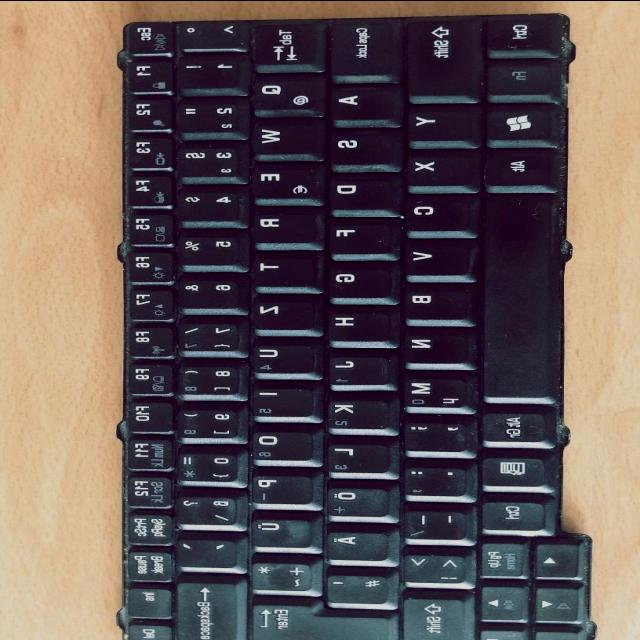0: (171, 447, 243, 483)
1: (172, 52, 244, 90)
2: (173, 96, 247, 134)
3: (171, 139, 247, 178)
4: (170, 184, 244, 220)
5: (171, 229, 245, 267)
6: (172, 274, 242, 309)
7: (174, 317, 244, 352)
8: (175, 360, 243, 396)
9: (173, 404, 243, 439)
a: (325, 82, 399, 120)
accent: (170, 535, 238, 566)
ae: (319, 527, 389, 560)
alt-left: (479, 146, 553, 184)
altgr-right: (476, 408, 545, 441)
b: (397, 282, 471, 320)
c: (398, 191, 476, 231)
caret: (174, 17, 248, 48)
comma: (398, 416, 471, 451)
d: (323, 171, 397, 209)
del: (170, 574, 240, 640)
e: (248, 160, 322, 201)
enter: (245, 595, 391, 640)
f: (323, 217, 395, 253)
g: (322, 261, 390, 297)
h: (322, 304, 392, 342)
hash: (320, 569, 392, 603)
i: (247, 382, 315, 417)
j: (322, 350, 392, 386)
k: (320, 394, 393, 430)
keyboard: (109, 4, 592, 640)
l: (323, 440, 389, 472)
less: (396, 549, 472, 584)
m: (397, 370, 471, 410)
minus: (398, 508, 467, 540)
n: (397, 326, 469, 364)
o: (246, 427, 314, 461)
oe: (320, 482, 389, 516)
p: (245, 470, 313, 504)
plus: (244, 556, 314, 590)
point: (399, 463, 469, 497)
q: (246, 71, 324, 115)
r: (247, 207, 316, 243)
s: (324, 127, 401, 165)
shift-left: (400, 16, 478, 100)
shift-lock: (323, 17, 399, 75)
shift-right: (395, 592, 467, 640)
space: (478, 192, 556, 398)
ss: (170, 490, 236, 524)
strg-left: (481, 11, 560, 53)
strg-right: (476, 497, 544, 530)
t: (246, 253, 314, 287)
tab: (245, 20, 322, 67)
u: (246, 338, 316, 374)
ue: (244, 510, 316, 548)
v: (398, 237, 472, 276)
w: (245, 117, 323, 155)
x: (400, 148, 476, 187)
y: (402, 103, 479, 141)
z: (246, 296, 316, 330)
